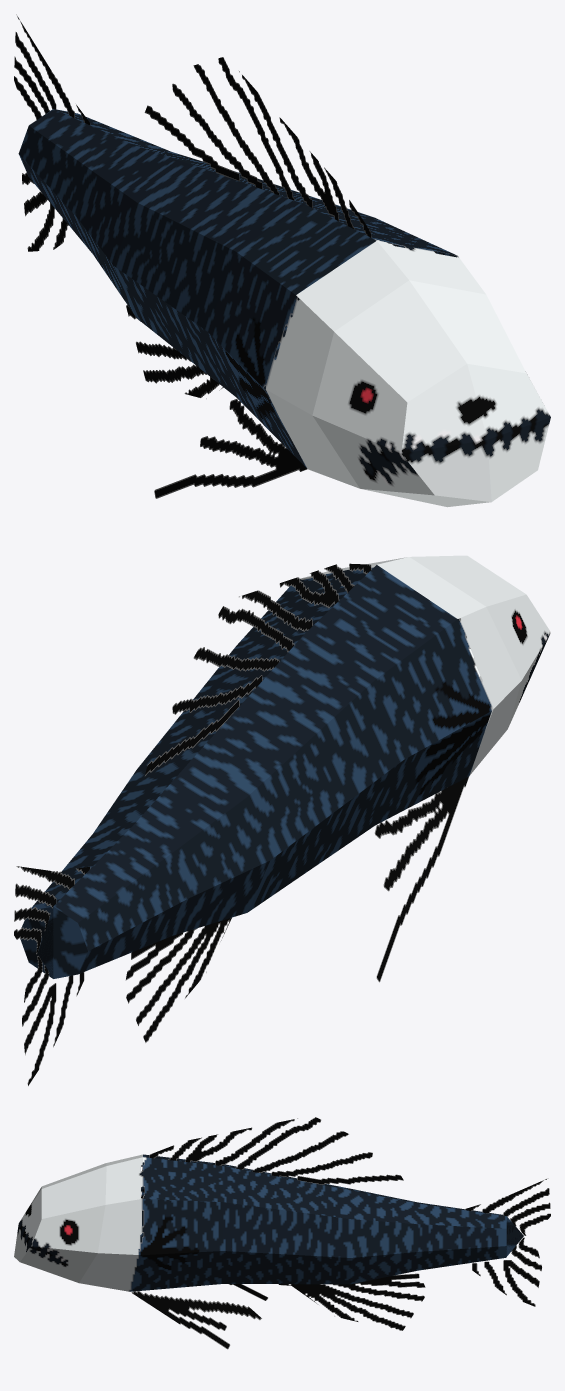
The model's file is newfish.fbx.
3 views of the same model, one above another, from view 1: azimuth 30°, elevation 25°; view 2: azimuth 150°, elevation 25°; view 3: azimuth 270°, elevation 25° (orthographic). The views are drawn at different scales.
Visible parts, largest first — view 1: Cylinder; view 2: Cylinder; view 3: Cylinder.
Boxes of the visible parts, box(x1,y1,x2,y2) form: Cylinder: box(14, 14, 550, 507); Cylinder: box(14, 555, 550, 1085); Cylinder: box(14, 1117, 550, 1349).
Size of the model in its own units: 127 by 213 by 453.
1 material, 1 textured.
